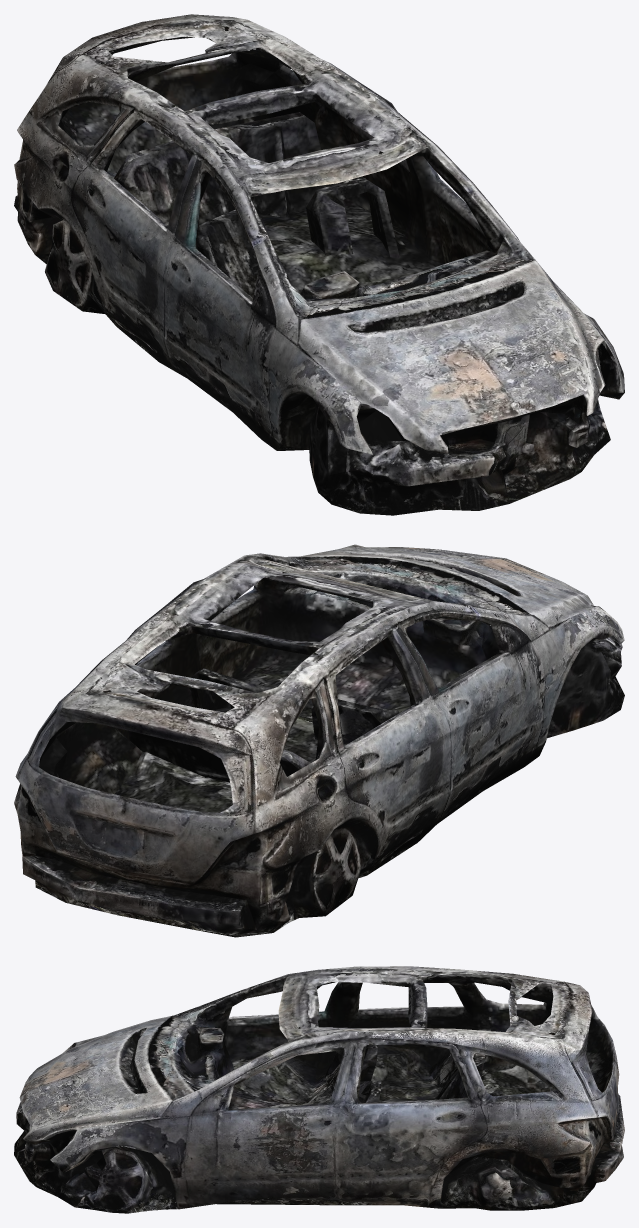
The model's file is car_burnt_a.gltf.
3 views of the same model, one above another, from view 1: azimuth 30°, elevation 25°; view 2: azimuth 150°, elevation 25°; view 3: azimuth 270°, elevation 25° (orthographic). The views are drawn at different scales.
Parts seen in each view (by area): view 1: car_burnt_a; view 2: car_burnt_a; view 3: car_burnt_a.
Part boxes in pixels (<box>): car_burnt_a: <box>14,14,624,515</box>; car_burnt_a: <box>14,544,624,937</box>; car_burnt_a: <box>14,966,624,1213</box>.
Bounding box in the file's own units: 1.85 × 1.28 × 4.4.
1 material, 1 textured.
